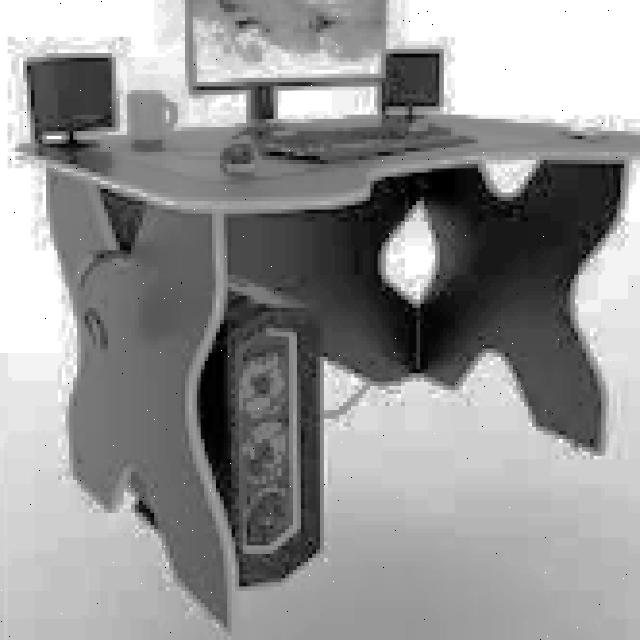table: (15, 107, 640, 628)
